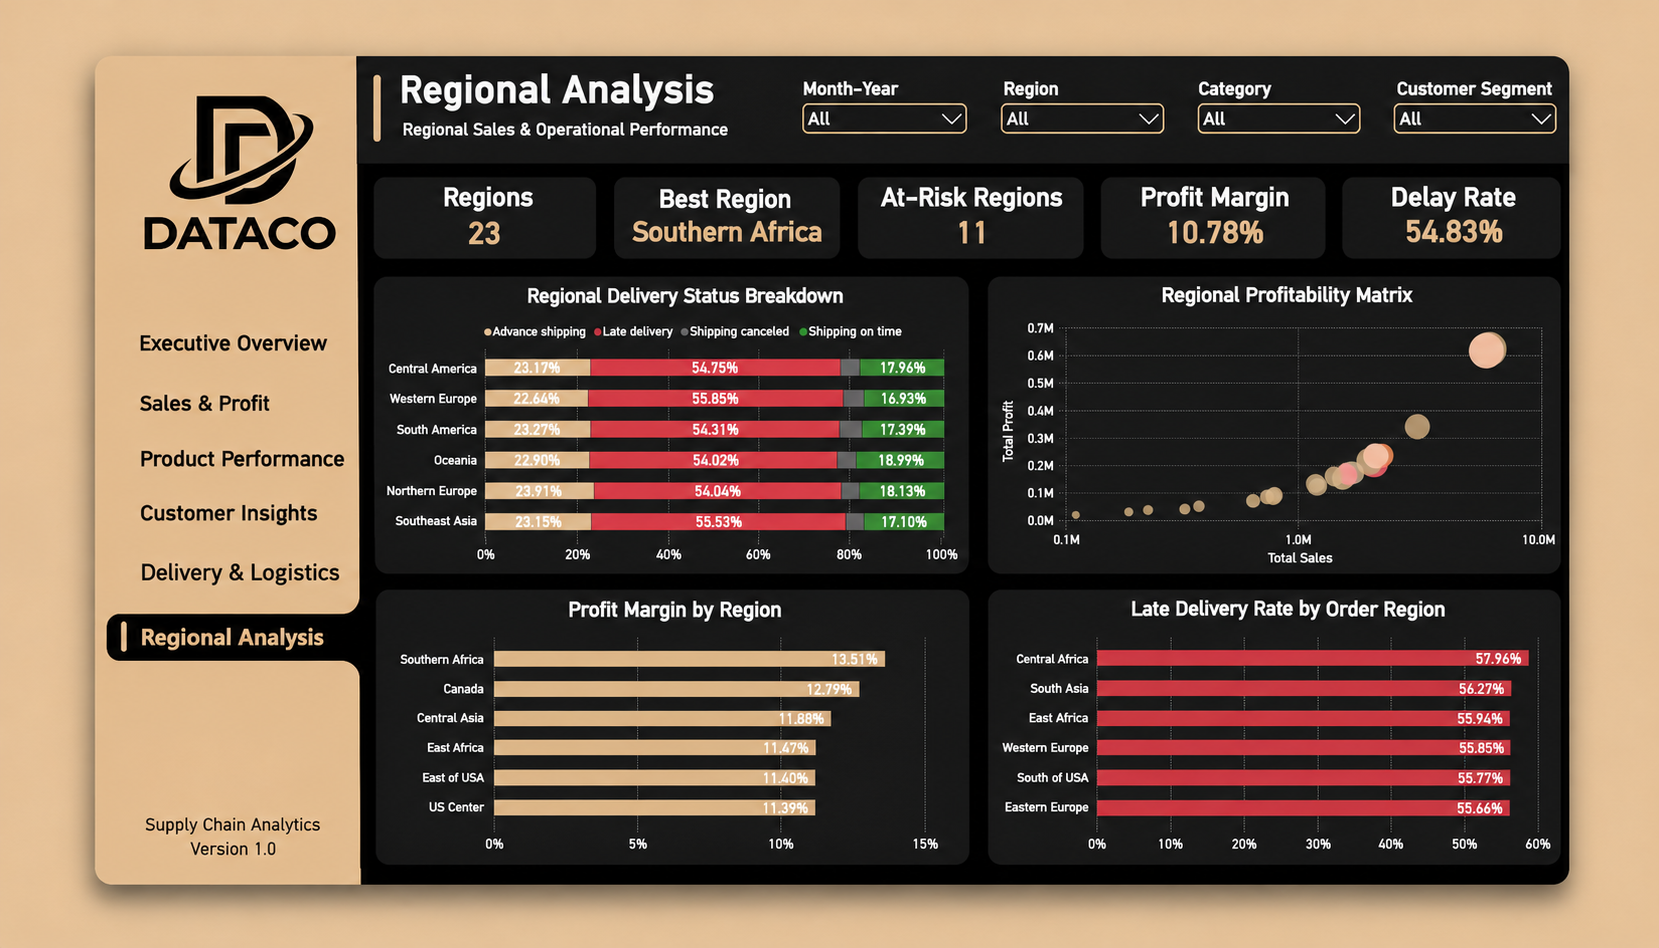

Layout of this report page (visuals, bound fields, positions):
{"tool":"powerbi","page":{"name":"Regional Analysis","canvas":[2560,1440],"ordinal":5},"visuals":[{"type":"shape","box":[0,0,520,1440],"z":0},{"type":"shape","box":[25.8,995,499.2,80],"z":1000},{"type":"image","box":[34.2,63.2,450,294.7],"z":2000},{"type":"textbox","box":[81.6,478.9,371.1,68.4],"z":3000},{"type":"textbox","box":[81.9,583.8,371.1,68.7],"z":4000},{"type":"textbox","box":[81.9,688.8,386.7,68.7],"z":5000},{"type":"textbox","box":[81.9,793.9,372.3,69.9],"z":6000},{"type":"textbox","box":[81.9,900.2,372.3,68.7],"z":7000},{"type":"textbox","box":[81.6,1005.3,371.1,68.4],"z":8000},{"type":"textbox","box":[101.8,1346.4,304.5,43.6],"z":9000},{"type":"textbox","box":[172.7,1387.3,157.3,50],"z":10000},{"type":"actionButton","box":[74.6,583.1,255.9,61],"z":11000},{"type":"actionButton","box":[78,678,376.2,71.4],"z":12000},{"type":"actionButton","box":[81.4,779.7,344.4,71.4],"z":13000},{"type":"actionButton","box":[78,898.3,376.2,71.4],"z":14000},{"type":"shape","box":[50,1006.7,11.7,56.7],"z":15000},{"type":"actionButton","box":[73.3,470.8,343.3,60.8],"z":16000},{"type":"image","box":[438.9,955.6,130,48.9],"z":17000},{"type":"image","box":[440,1065.5,130,48.2],"z":18000},{"type":"shape","box":[520,0,2040,192.5],"z":19000},{"type":"shape","box":[520,10,2040,192.5],"z":20000},{"type":"textbox","box":[602.3,32.3,566.2,213.1],"z":21000},{"type":"textbox","box":[604.9,117.1,641.5,53.7],"z":22000},{"type":"shape","box":[553.3,38.9,16.7,115.6],"z":23000},{"type":"shape","box":[2251,87,282,52],"z":24000},{"type":"shape","box":[1921.4,86.4,277.9,52.1],"z":25000},{"type":"shape","box":[1591.4,86.4,277.9,52.1],"z":26000},{"type":"shape","box":[1260.8,87.5,278,52.5],"z":27000},{"type":"slicer","fields":{"Values":["supply_chain_ops dataco_cleaned.Customer Segment"]},"box":[2249,50,284,324],"z":28000},{"type":"slicer","fields":{"Values":["supply_chain_ops dataco_cleaned.Category Name"]},"box":[1920,48.8,280,322],"z":29000},{"type":"slicer","fields":{"Values":["supply_chain_ops dataco_cleaned.Order Region"]},"box":[1590,48.8,280,322],"z":30000},{"type":"slicer","fields":{"Values":["supply_chain_ops dataco_cleaned.Month-Year"]},"box":[1260,50,280,320],"z":31000},{"type":"cardVisual","fields":{"Data":["Count(supply_chain_ops dataco_cleaned.Order Region)"]},"box":[550,230,370,130],"z":32000},{"type":"cardVisual","fields":{"Data":["Measure Table.Best Region"]},"box":[953.1,228.8,370,130],"z":33000},{"type":"cardVisual","fields":{"Data":["Measure Table.At-Risk Regions"]},"box":[1356.2,228.8,370,130],"z":34000},{"type":"cardVisual","fields":{"Data":["MeasureTable.Profit Margin"]},"box":[1759.4,228.8,370,130],"z":35000},{"type":"cardVisual","fields":{"Data":["MeasureTable.Late Delivery Rate"]},"box":[2162.5,227.5,370,130],"z":36000},{"type":"hundredPercentStackedBarChart","title":"Regional Delivery Status Breakdown","fields":{"Category":["supply_chain_ops dataco_cleaned.Order Region"],"Series":["supply_chain_ops dataco_cleaned.Delivery Status"],"Y":["CountNonNull(supply_chain_ops dataco_cleaned.Order Id)"]},"box":[554,396.5,962.2,501.5],"z":37000},{"type":"shape","box":[1480,501,24,350],"z":38000},{"type":"scatterChart","title":"Regional Profitability Matrix","fields":{"Category":["supply_chain_ops dataco_cleaned.Order Region"],"Size":["Measure Table.Total Orders"],"X":["Measure Table.Total Sales"],"Y":["Measure Table.Total Profit"]},"box":[1567.5,397.5,965,500],"z":39000},{"type":"clusteredBarChart","title":"Profit Margin by  Region","fields":{"Category":["supply_chain_ops dataco_cleaned.Order Region"],"Y":["Measure Table.Profit Margin"]},"box":[552.5,935,965,477.5],"z":40000},{"type":"shape","box":[1485,1005,25,360],"z":41000},{"type":"clusteredBarChart","fields":{"Category":["supply_chain_ops dataco_cleaned.Order Region"],"Y":["Measure Table.Late Delivery Rate"]},"box":[1568,935,965,478],"z":42000},{"type":"shape","box":[2495,1005,25,360],"z":43000}]}

Visuals, with their boxes in screenshot pixels (x1, y1, x2, y2), scaled from the page's 2560x1440 canvas onto the 1659x948 screenshot:
shape: (0,0,337,947)
shape: (17,655,340,708)
image: (22,42,314,236)
textbox: (53,315,293,360)
textbox: (53,384,294,430)
textbox: (53,453,304,499)
textbox: (53,523,294,569)
textbox: (53,593,294,638)
textbox: (53,662,293,707)
textbox: (66,886,263,915)
textbox: (112,913,214,946)
actionButton: (48,384,214,424)
actionButton: (51,446,294,493)
actionButton: (53,513,276,560)
actionButton: (51,591,294,638)
shape: (32,663,40,700)
actionButton: (48,310,270,350)
image: (284,629,369,661)
image: (285,701,369,733)
shape: (337,0,1658,127)
shape: (337,7,1658,133)
textbox: (390,21,757,162)
textbox: (392,77,808,112)
shape: (359,26,369,102)
shape: (1459,57,1642,92)
shape: (1245,57,1425,91)
shape: (1031,57,1211,91)
shape: (817,58,997,92)
slicer - supply_chain_ops dataco_cleaned.Customer Segment: (1457,33,1642,246)
slicer - supply_chain_ops dataco_cleaned.Category Name: (1244,32,1426,244)
slicer - supply_chain_ops dataco_cleaned.Order Region: (1030,32,1212,244)
slicer - supply_chain_ops dataco_cleaned.Month-Year: (817,33,998,244)
cardVisual - Count(supply_chain_ops dataco_cleaned.Order Region): (356,151,596,237)
cardVisual - Measure Table.Best Region: (618,151,857,236)
cardVisual - Measure Table.At-Risk Regions: (879,151,1119,236)
cardVisual - MeasureTable.Profit Margin: (1140,151,1380,236)
cardVisual - MeasureTable.Late Delivery Rate: (1401,150,1641,235)
"Regional Delivery Status Breakdown" hundredPercentStackedBarChart: (359,261,983,591)
shape: (959,330,975,560)
"Regional Profitability Matrix" scatterChart: (1016,262,1641,591)
"Profit Margin by  Region" clusteredBarChart: (358,616,983,930)
shape: (962,662,979,899)
clusteredBarChart - supply_chain_ops dataco_cleaned.Order Region x Measure Table.Late Delivery Rate: (1016,616,1642,930)
shape: (1617,662,1633,899)
